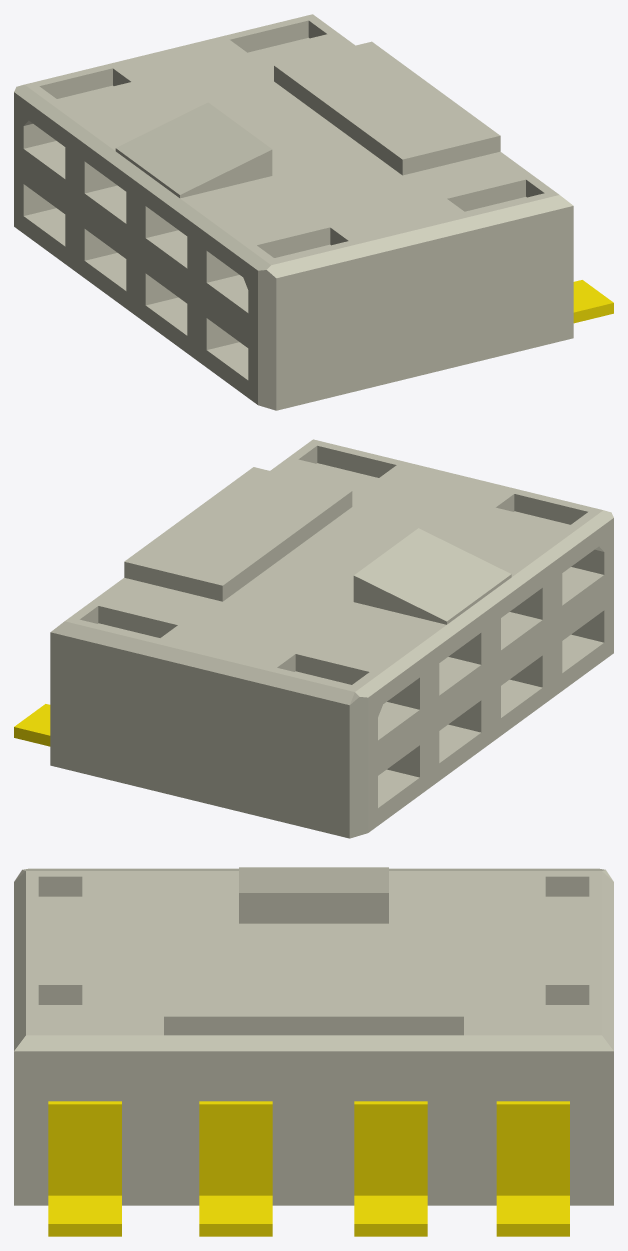
The model's file is PlugNode2_Start.fbx.
3 views of the same model, one above another, from view 1: azimuth 30°, elevation 25°; view 2: azimuth 150°, elevation 25°; view 3: azimuth 270°, elevation 25° (orthographic). The views are drawn at different scales.
Visible parts, largest first — view 1: PlugNode2_Start; view 2: PlugNode2_Start; view 3: PlugNode2_Start.
Boxes of the visible parts, x1,y1,x2,y2 form: PlugNode2_Start: (14,14,613,410); PlugNode2_Start: (14,439,613,838); PlugNode2_Start: (14,867,613,1236).
Size of the model in its own units: 49.19 by 21.71 by 60.16.
